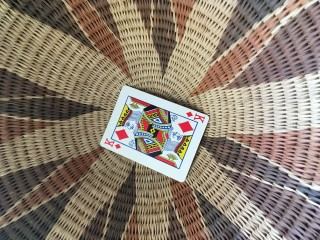KingOfDiamonds: (100, 85, 210, 183)
